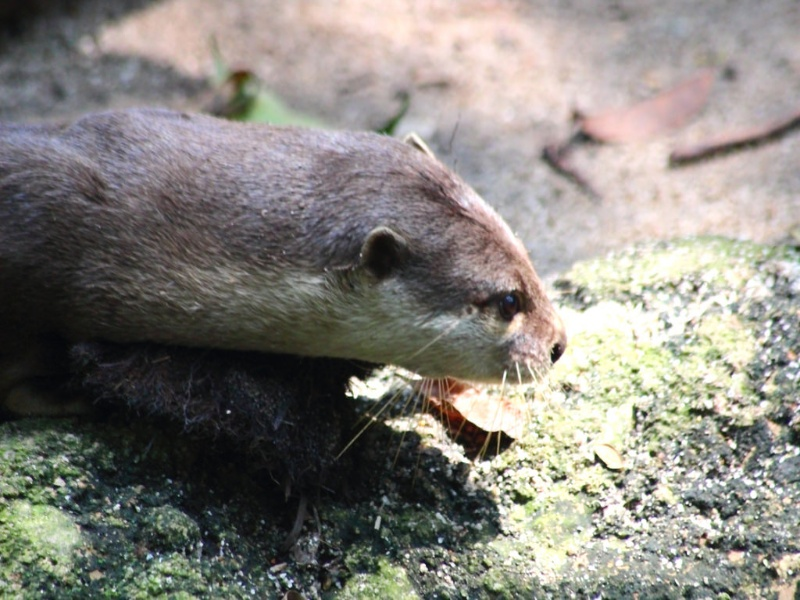minkish: (1, 75, 567, 488)
